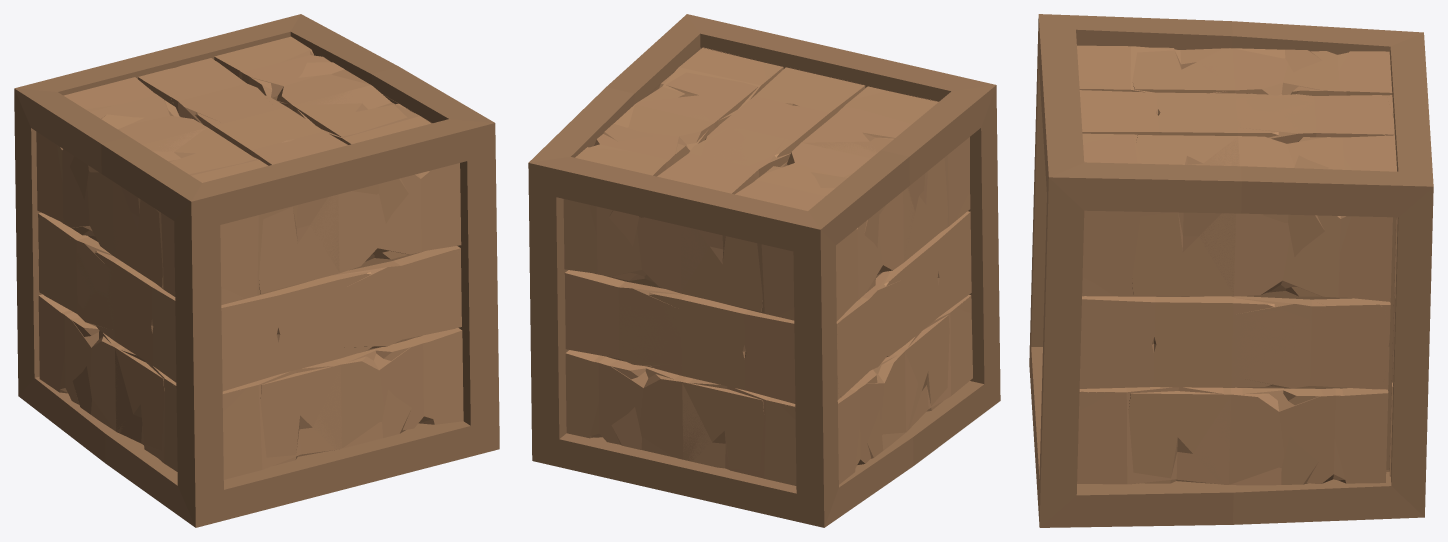
3 views of the same model, side by side, from view 1: azimuth 30°, elevation 25°; view 2: azimuth 150°, elevation 25°; view 3: azimuth 270°, elevation 25° (orthographic). The views are drawn at different scales.
Visible parts, largest first — view 1: Cube.070; view 2: Cube.070; view 3: Cube.070.
Boxes of the visible parts, box(x1,y1,x2,y2) form: Cube.070: box(14, 14, 499, 527); Cube.070: box(528, 14, 1000, 527); Cube.070: box(1029, 14, 1433, 527).
Bounding box in the file's own units: 300 × 300 × 313.
